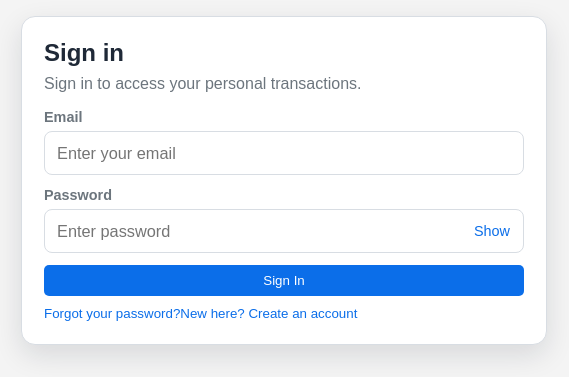
Test: AuthSection › switches to forgot password mode and hides the password field
Click the button "Forgot your password?" at (112, 314), box [44,306,180,321]
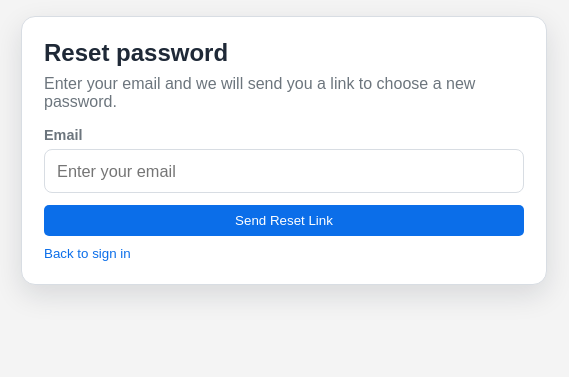
Now the heading "Reset password" is shown, box [44,39,228,66]
Now the button "Send Reset Link" is shown, box [44,205,524,236]
